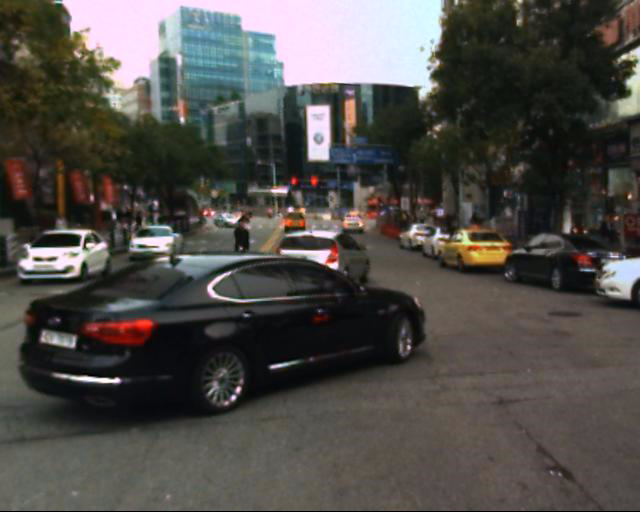person: (230, 213, 259, 281), (594, 212, 617, 263), (536, 205, 560, 250), (561, 209, 585, 251)
